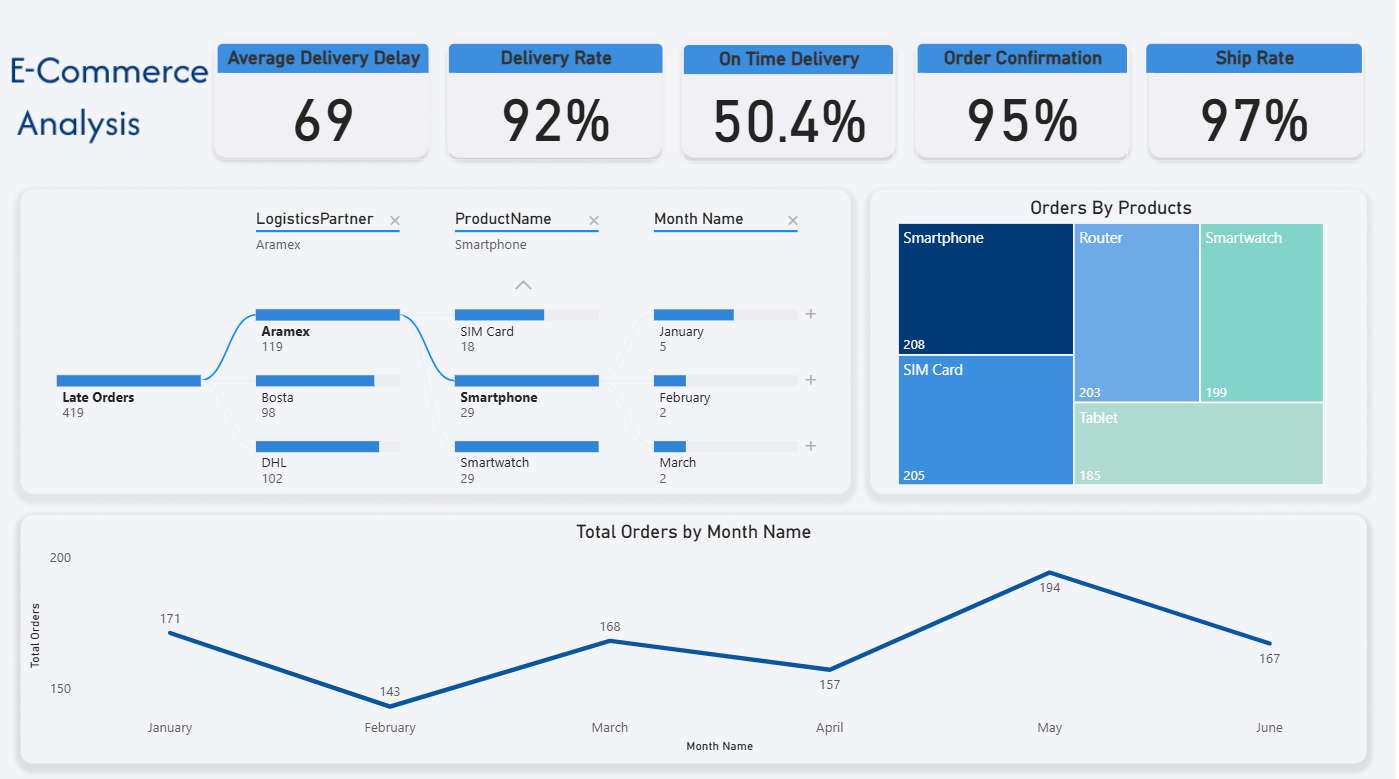

This screenshot's page, from the dashboard's own definition file:
{"tool":"powerbi","page":{"name":"Overview","canvas":[1280,720],"ordinal":0},"visuals":[{"type":"image","box":[0,0,1280,720],"z":0},{"type":"decompositionTreeVisual","fields":{"ExplainBy":["Deliveries.LogisticsPartner","Products.ProductName","Date.Date Hierarchy.Month Name","Date.Month Name"],"Analyze":["_Measures.Late Orders"]},"box":[31.4,182.9,744.3,275.7],"z":1000},{"type":"lineChart","fields":{"Category":["Date.Date Hierarchy.Year","Date.Date Hierarchy.Month Name","Date.Date Hierarchy.Quarter","Date.Date Hierarchy.Day"],"Y":["Orders.Total Orders"]},"box":[31.4,480,1211.4,215.7],"z":2000},{"type":"card","title":"Average Delivery Delay ","fields":{"Values":["_Measures.Average Delivery Delay (days)"]},"box":[205.8,48.8,193,105.8],"z":3000},{"type":"card","title":"Delivery Rate","fields":{"Values":["Deliveries.Delivery Rate"]},"box":[415,48.8,195,106.2],"z":4000},{"type":"card","title":"On Time Delivery","fields":{"Values":["_Measures.On Time Delivery  %"]},"box":[627.5,50,191.2,106.2],"z":5000},{"type":"card","title":"Order Confirmation ","fields":{"Values":["Orders.Order Confirmation Rate"]},"box":[838.6,48.6,191.4,107.1],"z":6000},{"type":"card","title":"Ship Rate","fields":{"Values":["Orders.Ship Rate"]},"box":[1045.7,48.6,197.1,107.1],"z":7000},{"type":"treemap","title":"Orders By Products","fields":{"Values":["CountNonNull(Orders.OrderID)"],"Details":["Products.ProductName"]},"box":[817.5,187.5,395,266.2],"z":8000}]}

Visuals, with their boxes in screenshot pixels (x1, y1, x2, y2), scaled from the page's 1280x720 canvas onto the 1399x779 screenshot:
image: 0,0,1398,778
decompositionTreeVisual - Deliveries.LogisticsPartner x Products.ProductName: 34,198,848,496
lineChart - Date.Date Hierarchy.Year x Date.Date Hierarchy.Month Name: 34,519,1358,753
"Average Delivery Delay " card: 225,53,436,167
"Delivery Rate" card: 454,53,667,168
"On Time Delivery" card: 686,54,895,169
"Order Confirmation " card: 917,53,1126,168
"Ship Rate" card: 1143,53,1358,168
"Orders By Products" treemap: 894,203,1325,491
